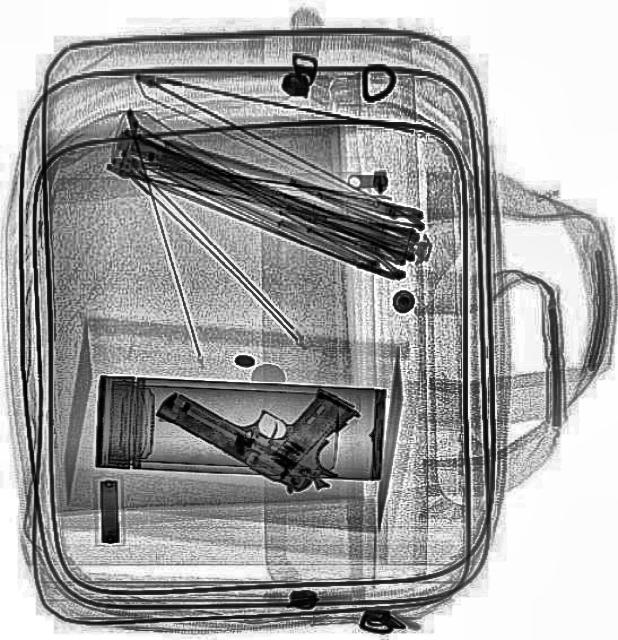Gun: (150, 322, 372, 506)
